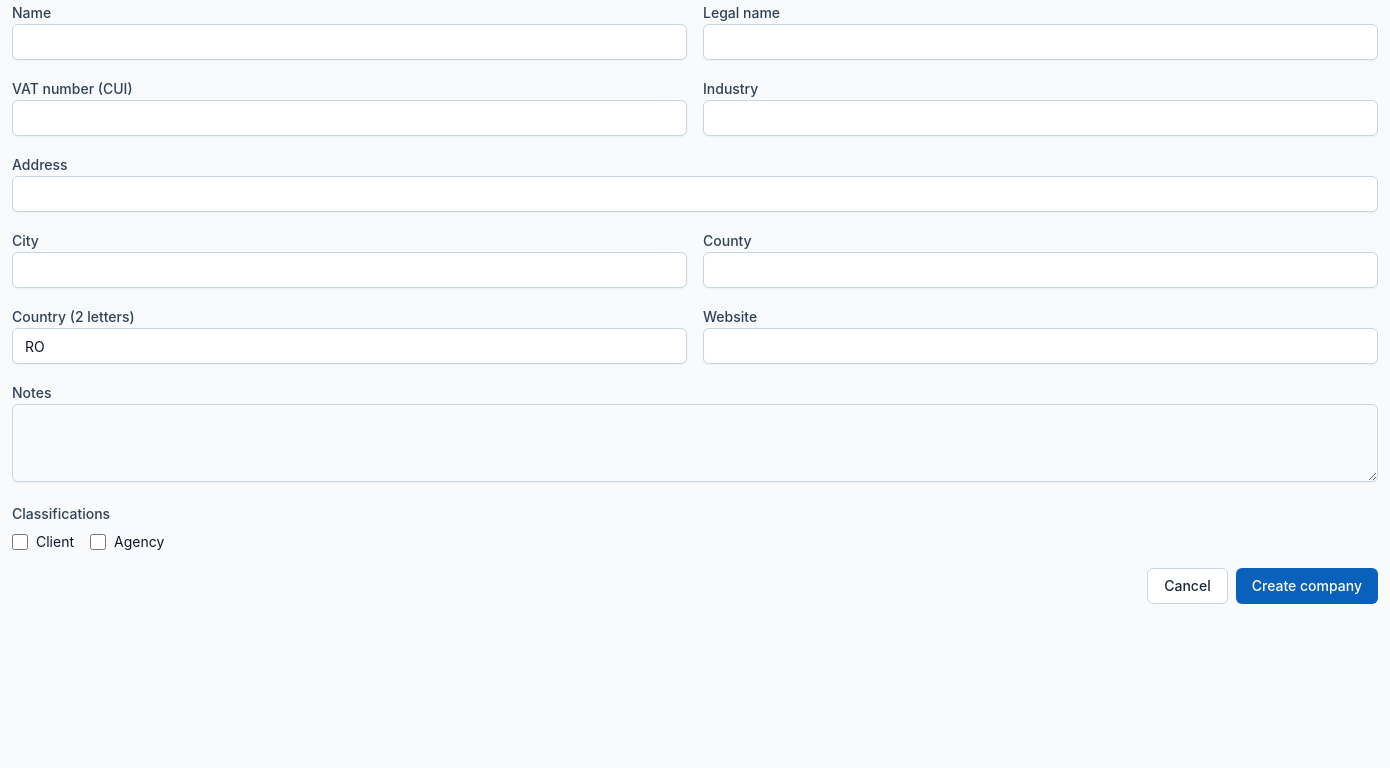
CompanyForm › requires a name
Click the button "Create company" at coordinates (1307, 586), box [1236,568,1378,604]
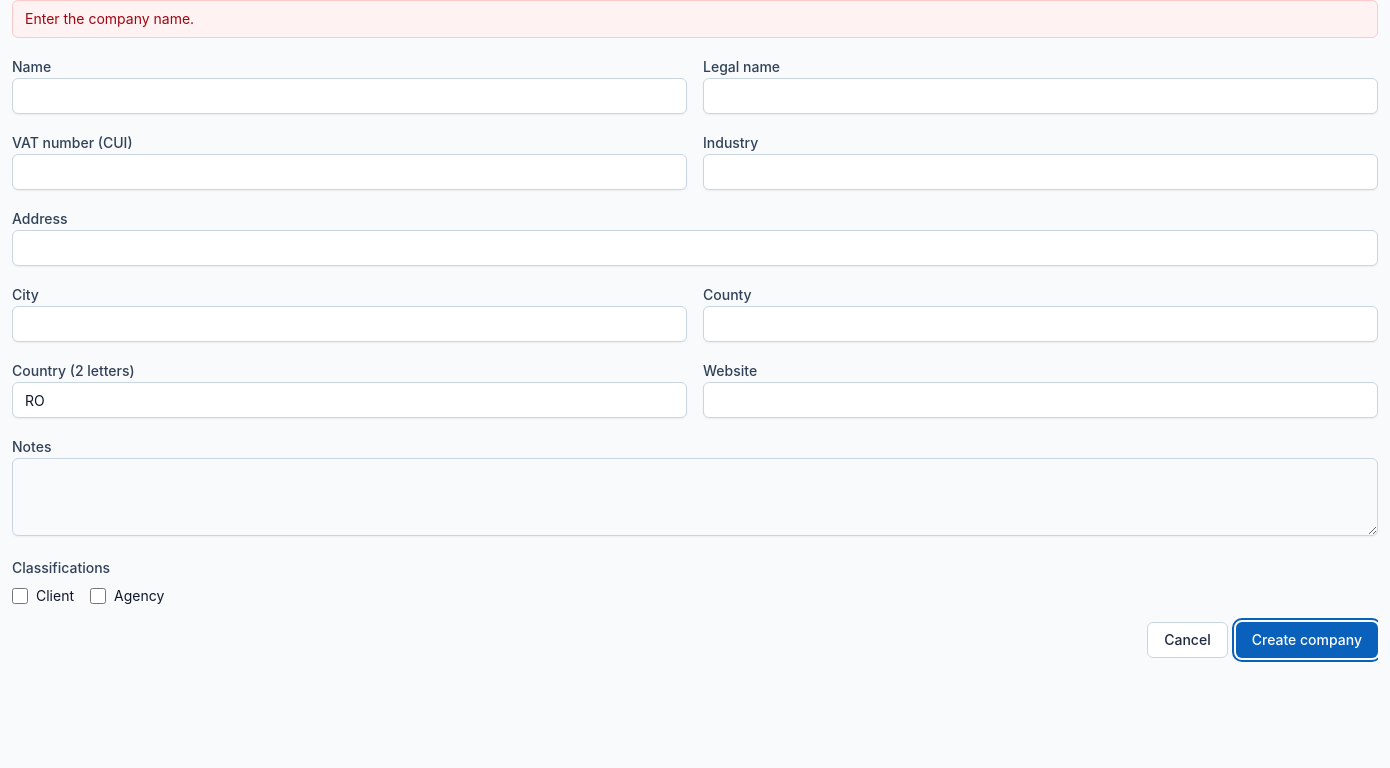
Expected: the message shows "Enter the company name", [25,10,194,27]
